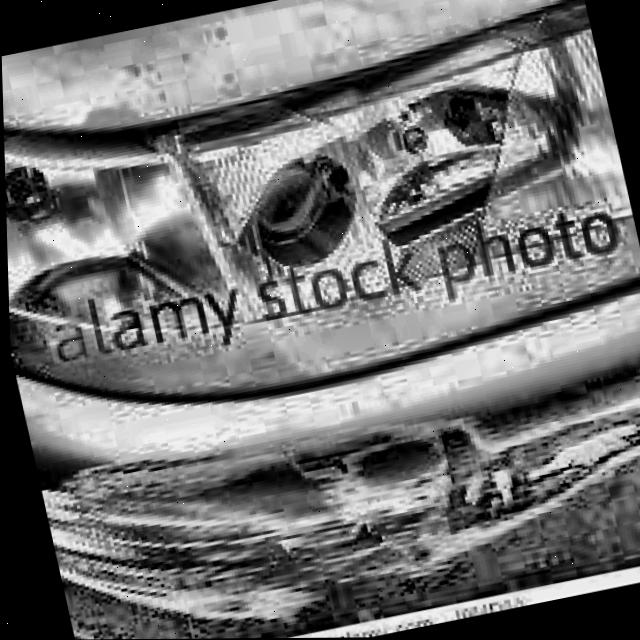head_lamp: (3, 109, 404, 362), (366, 56, 640, 286)
